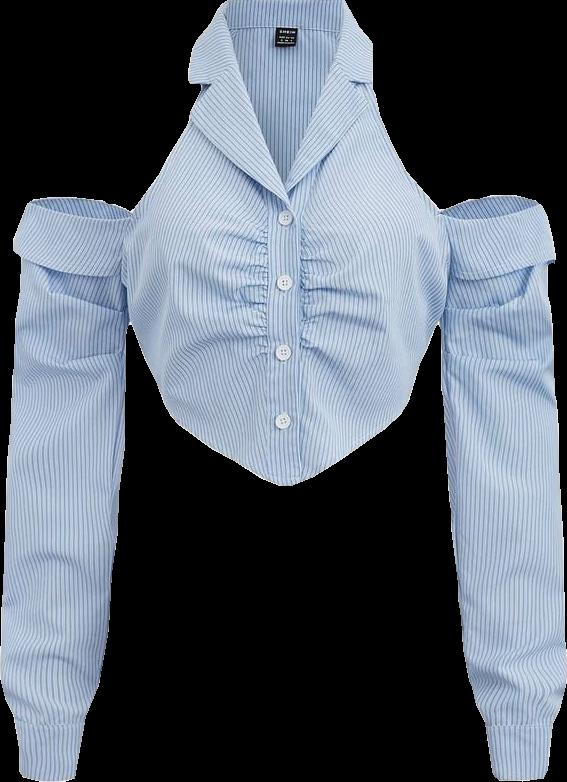Bodice: (122, 0, 451, 485)
Neckline: (220, 3, 348, 196)
Sleeve: (0, 198, 131, 781), (437, 195, 566, 781)
Sleeveline: (437, 210, 458, 327), (116, 214, 134, 316), (11, 714, 87, 727), (485, 716, 557, 728)
Waistline: (167, 394, 411, 488), (11, 245, 124, 274), (447, 253, 557, 282)
